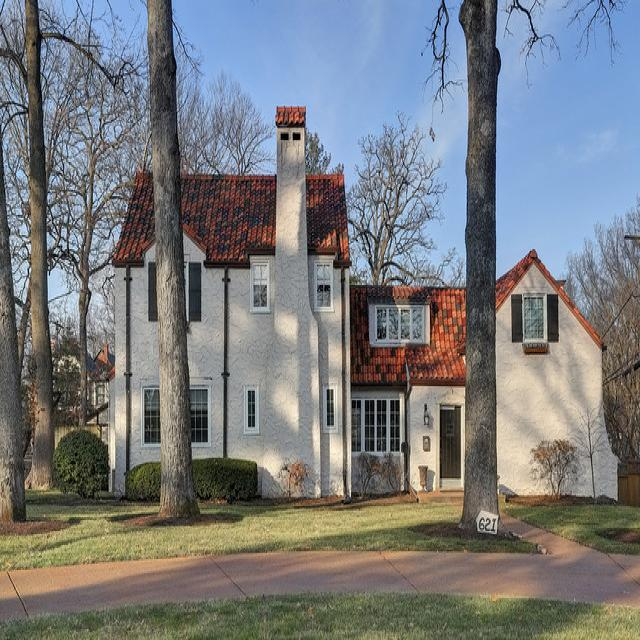building: (103, 98, 628, 512)
